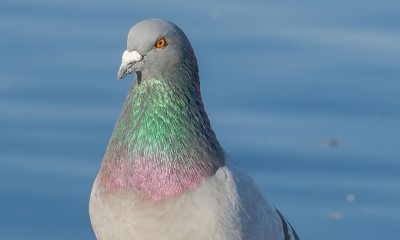pigeon: (87, 17, 240, 239)
